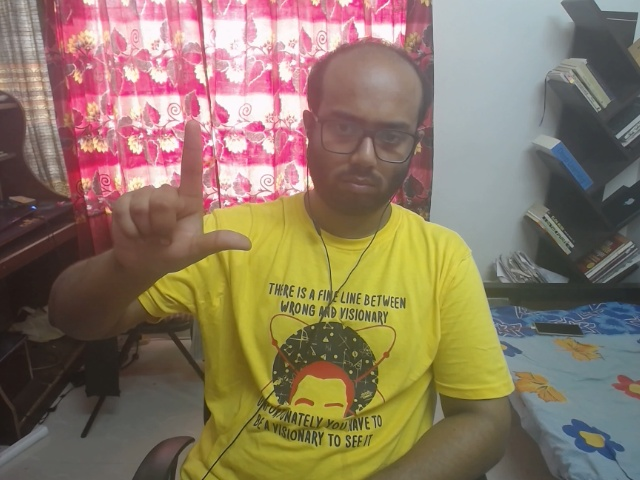seven: (92, 106, 269, 284)
